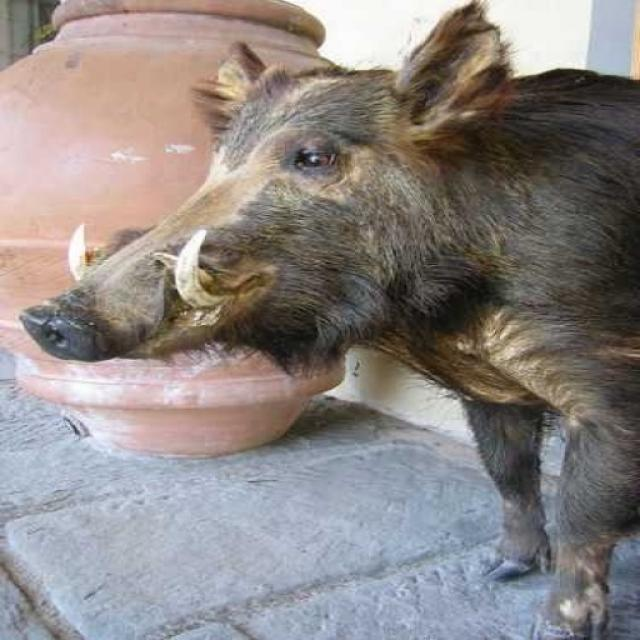pig: (20, 2, 640, 610)
